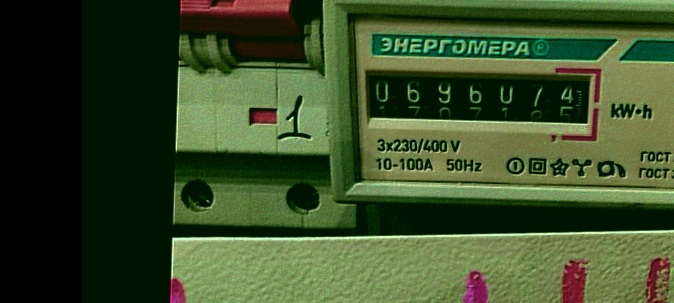0: (371, 78, 391, 104), (498, 80, 515, 106)
4: (559, 81, 576, 105)
5: (559, 105, 574, 123)
6: (404, 77, 424, 105), (466, 80, 484, 105)
7: (527, 82, 546, 108)
9: (434, 79, 454, 105)
screen: (352, 56, 607, 145)
